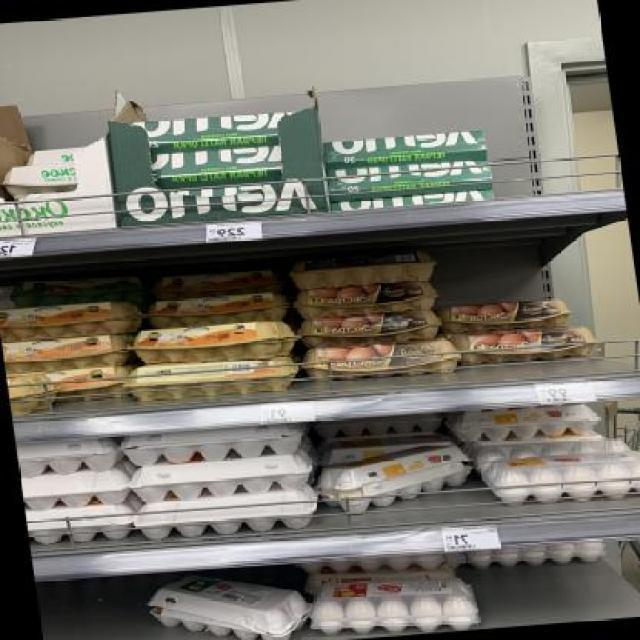egg: (302, 569, 486, 640), (480, 446, 640, 509), (311, 442, 475, 503), (121, 314, 302, 369), (299, 334, 464, 384), (452, 319, 600, 370), (288, 274, 444, 322), (0, 293, 149, 342), (444, 402, 604, 446), (144, 286, 294, 332), (296, 306, 446, 351), (438, 292, 578, 338), (1, 330, 136, 376), (0, 157, 103, 200), (16, 136, 109, 170), (5, 368, 58, 418)
